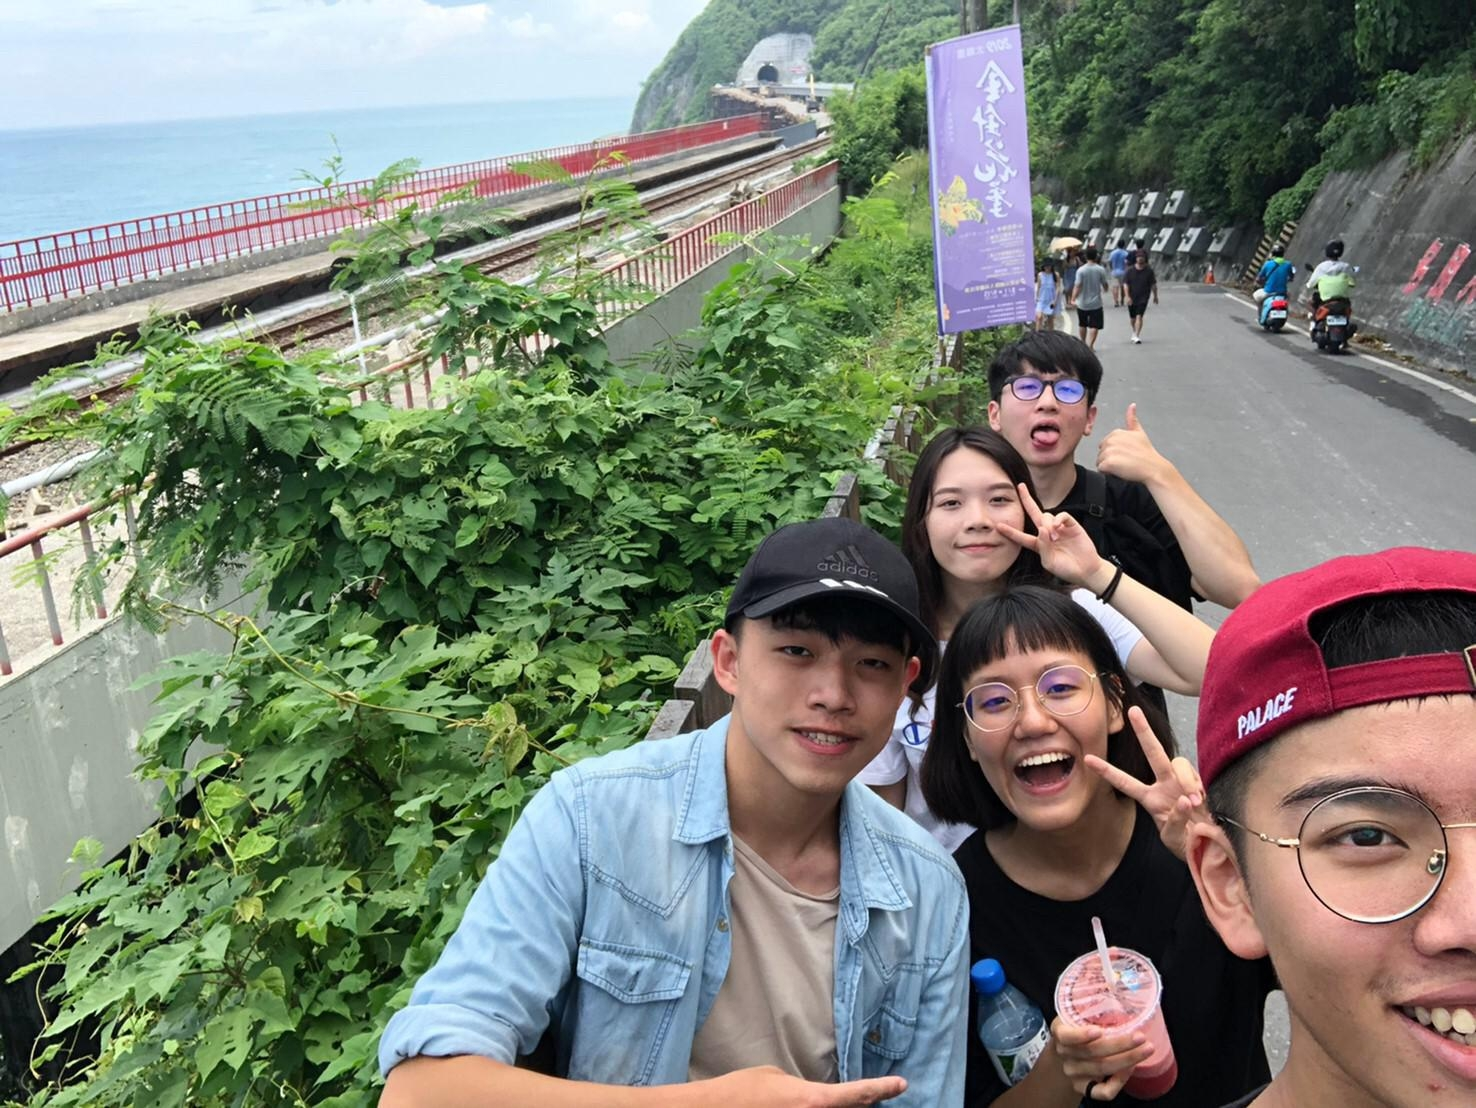people: (514, 532, 932, 1108), (1203, 569, 1476, 1108), (951, 619, 1222, 1108), (1001, 336, 1222, 607), (932, 436, 1049, 613), (1314, 236, 1360, 338), (1030, 255, 1089, 332), (1120, 248, 1172, 332), (1072, 257, 1110, 350), (1262, 248, 1291, 315)
